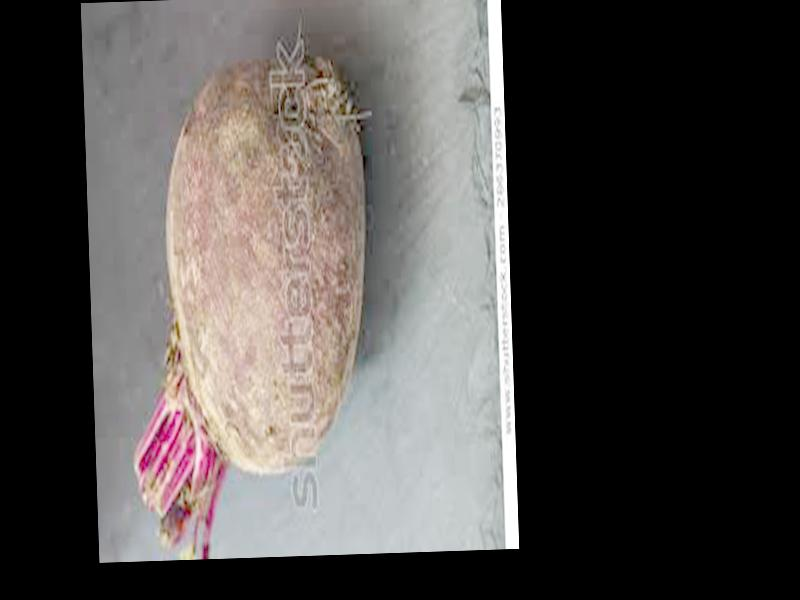Beet: (123, 52, 376, 558)
